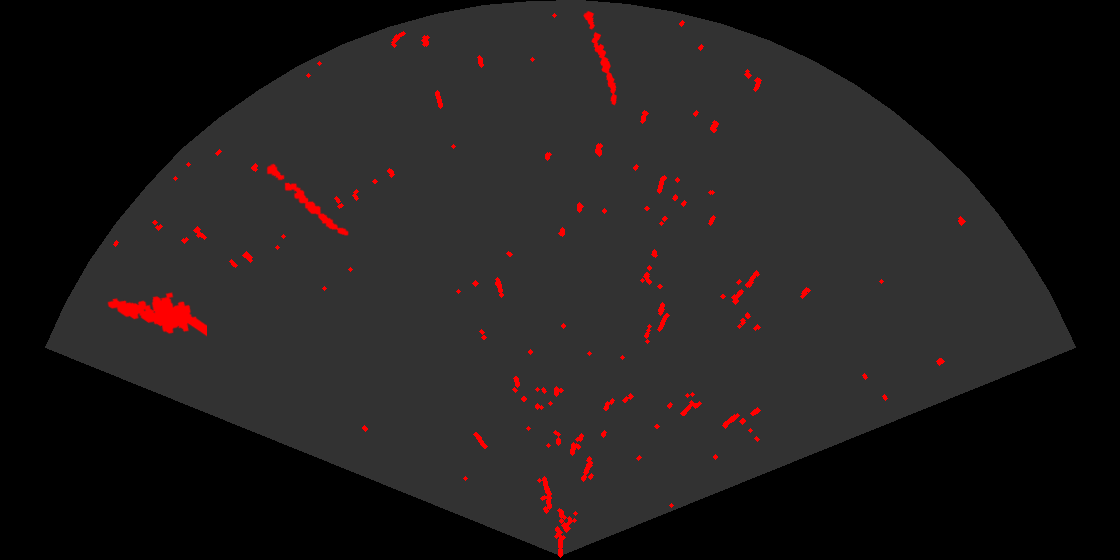chain: (265, 162, 350, 237), (582, 9, 619, 107)
frogman: (106, 290, 207, 338)
